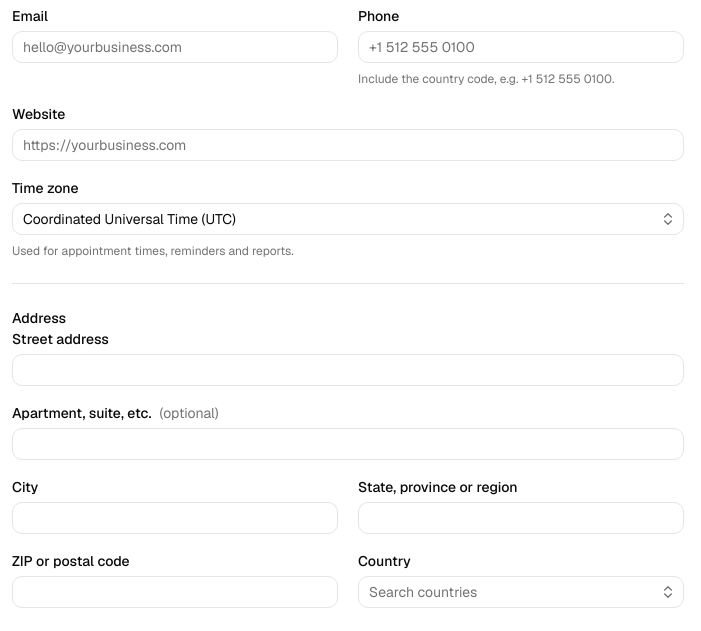
Test case: WorkspaceProfileForm › enables saving only after a change, and Cancel restores the saved values
The image size is (701, 631).
Type "Austin" into the field labelled "City" at (175, 518), box [12,502,338,534]
(page scrolled)
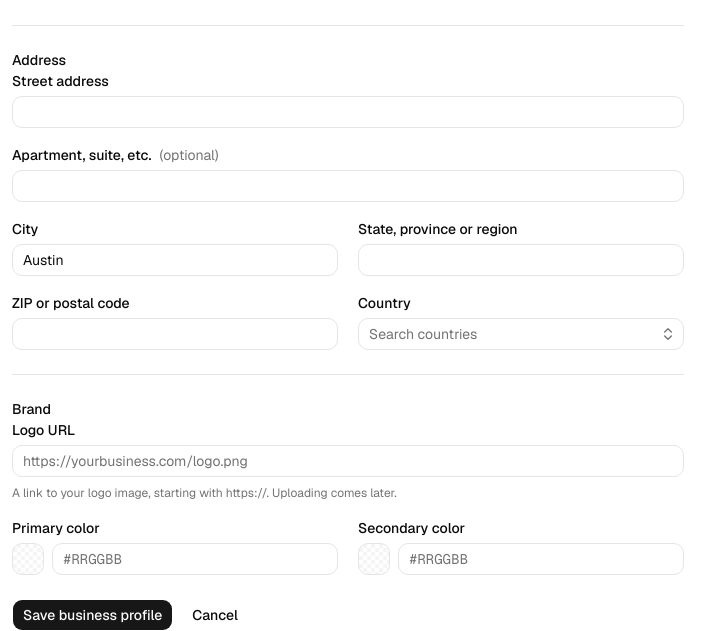
expect the button "Save business profile" is enabled: met, box [12,599,173,630]
Click the button "Cancel" at (215, 615), box [181,599,249,630]
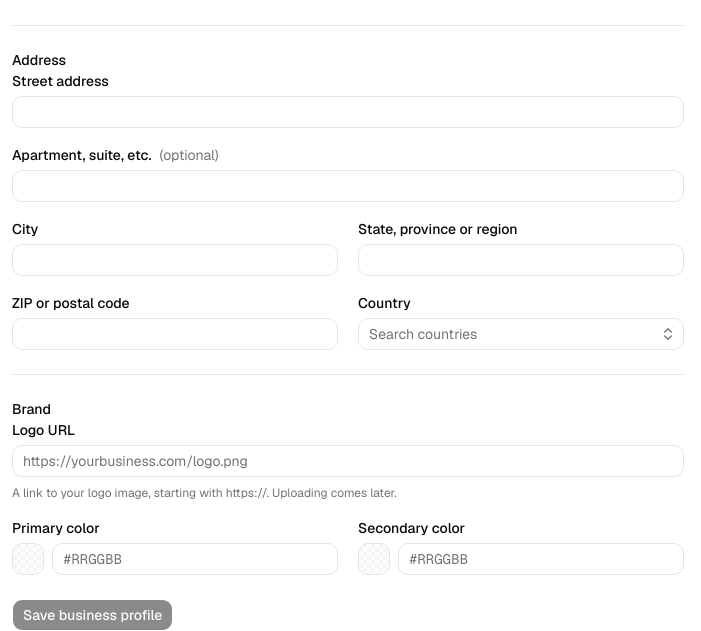
expect the field labelled "City" is empty: met, box [12,244,338,276]
expect the button "Save business profile" is disabled: met, box [12,599,173,630]
